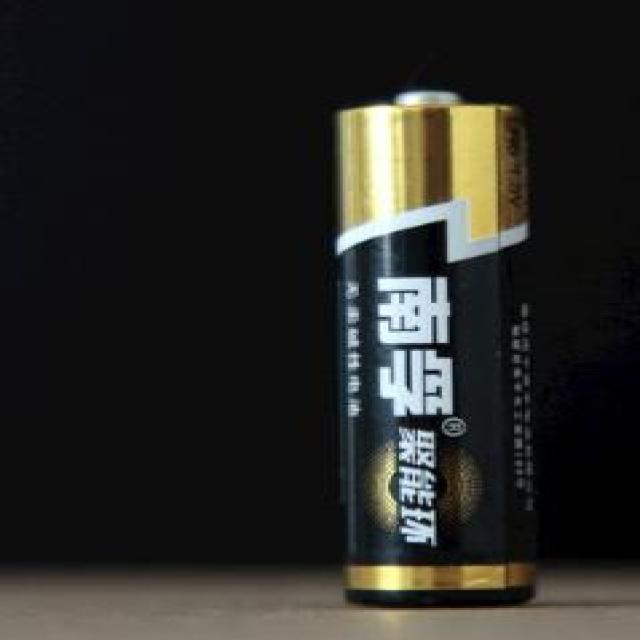-Hazardous waste - battery-: (330, 80, 558, 614)
